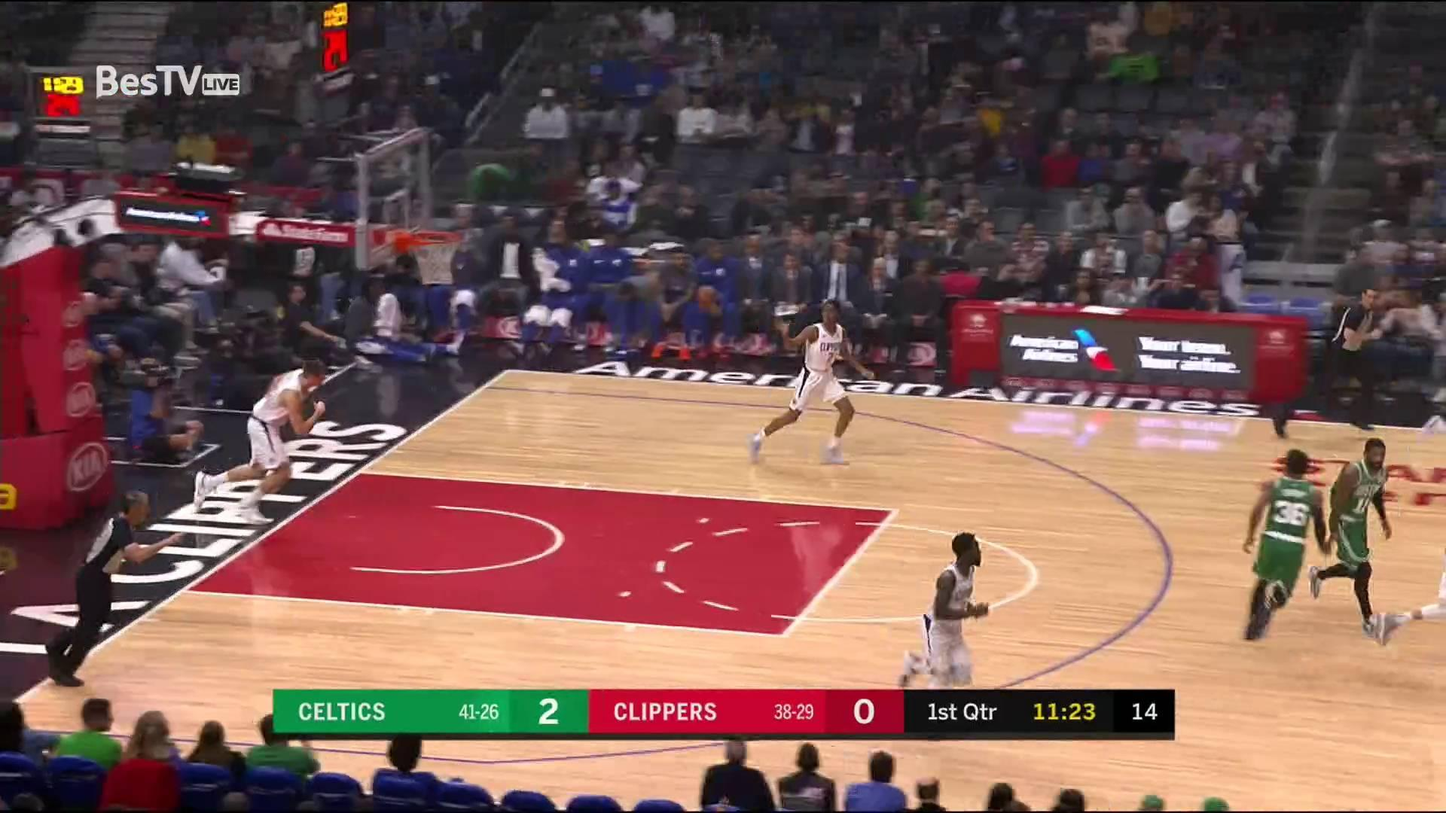basketball: (695, 283, 722, 313)
